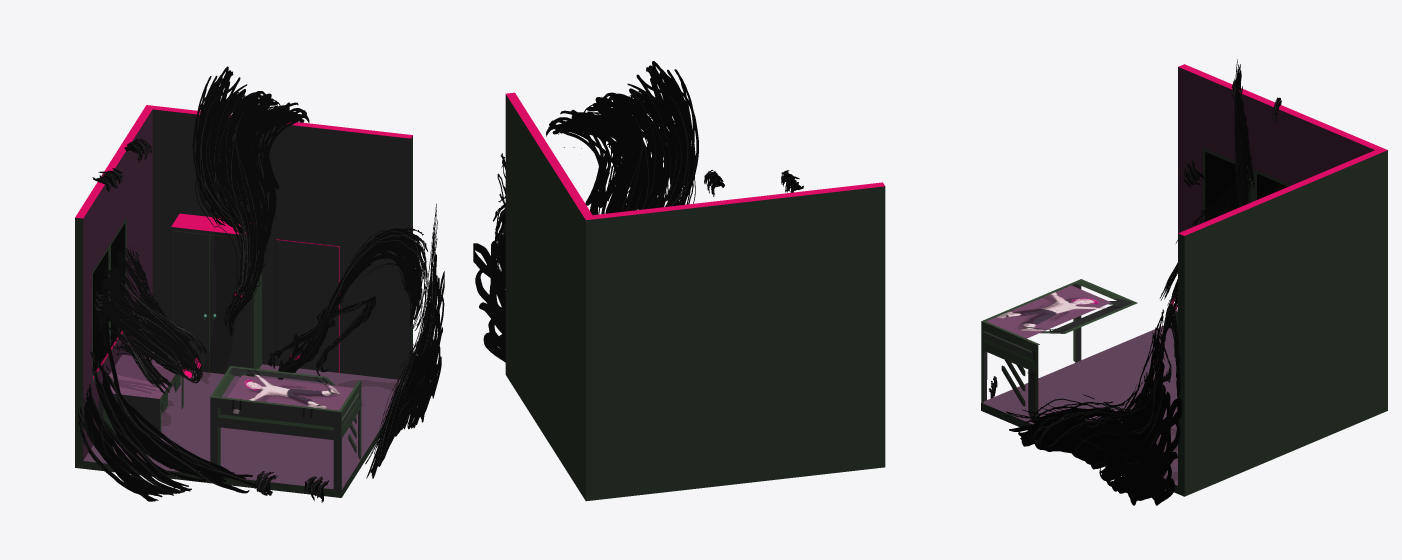
The model's file is night.dae.
3 renders of one model, left to right at view 1: azimuth 30°, elevation 25°; view 2: azimuth 150°, elevation 25°; view 3: azimuth 270°, elevation 25°, orthographic. The views are drawn at different scales.
Visible parts, largest first — view 1: bedB (×2), SC, floor, Closet, wallL, SLA, SLB, SRB, SRA, outside, bedA, Cube (+2 smaller); view 2: outside, SC, SRA, SRB; view 3: outside, wallL, SRA, floor, bedA, bedC, SC, SLB, SRB, bedB.
Part boxes in pixels (bbox=[...]): bedB (×2): bbox=[152, 109, 410, 490]; SC: bbox=[192, 66, 309, 336]; floor: bbox=[83, 352, 403, 489]; Closet: bbox=[171, 213, 261, 376]; wallL: bbox=[83, 109, 152, 460]; SLA: bbox=[78, 313, 256, 501]; SLB: bbox=[95, 247, 207, 394]; SRB: bbox=[268, 228, 428, 379]; SRA: bbox=[365, 203, 444, 478]; outside: bbox=[75, 105, 412, 497]; bedA: bbox=[210, 366, 360, 412]; Cube: bbox=[109, 355, 180, 398]; outside: bbox=[505, 92, 885, 501]; SC: bbox=[546, 61, 698, 214]; SRA: bbox=[473, 153, 505, 362]; SRB: bbox=[492, 196, 505, 302]; outside: bbox=[981, 64, 1387, 496]; wallL: bbox=[1178, 67, 1374, 233]; SRA: bbox=[1006, 309, 1181, 505]; floor: bbox=[981, 323, 1177, 485]; bedA: bbox=[981, 279, 1137, 344]; bedC: bbox=[981, 321, 1038, 423]; SC: bbox=[1234, 59, 1254, 207]; SLB: bbox=[1159, 181, 1251, 314]; SRB: bbox=[1152, 299, 1180, 427]; bedB: bbox=[983, 283, 1081, 401].
Bounding box in the file's own units: 574 × 533 × 453.
20 materials, 17 textured.
